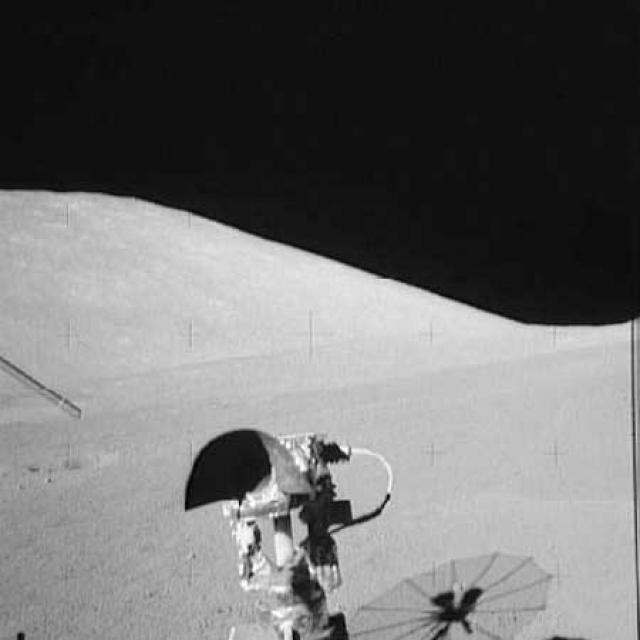artifact: (168, 416, 400, 639), (0, 351, 90, 426)
crater: (22, 444, 122, 479)
